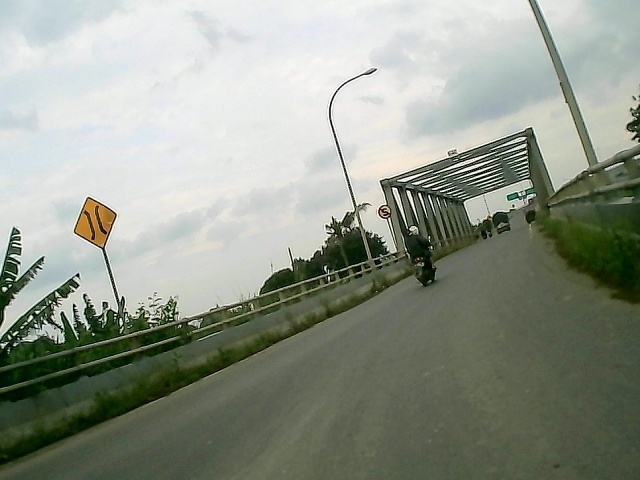Dilarang berhenti: (377, 203, 393, 221)
Jembatan: (69, 194, 123, 249)
